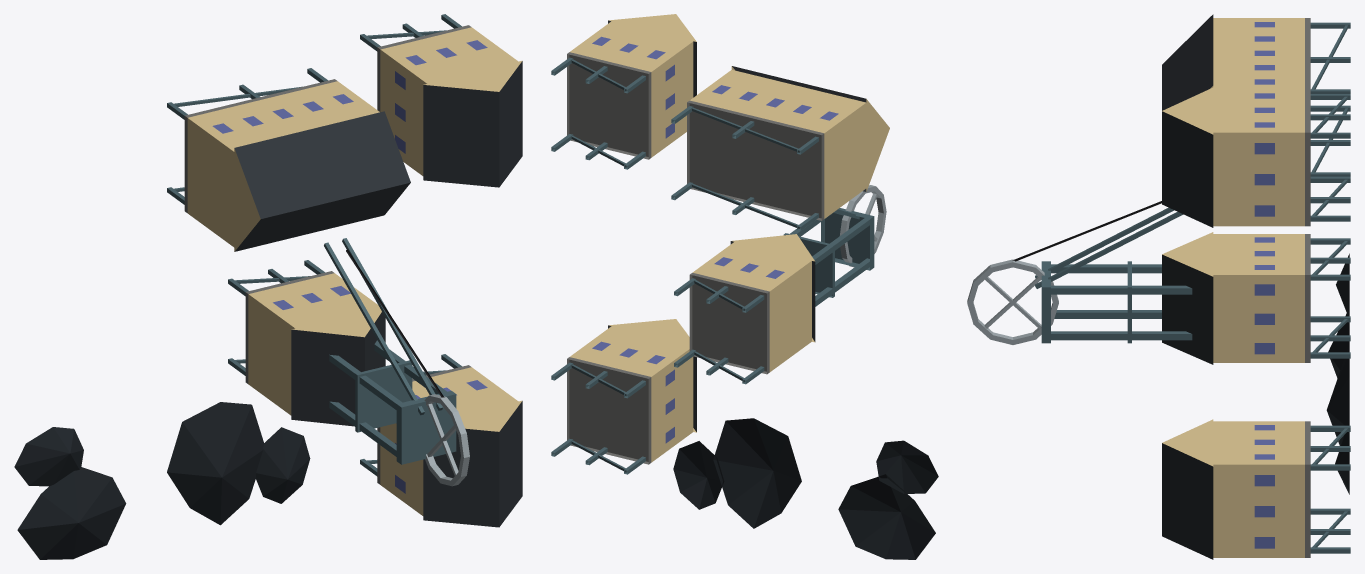
Rendered from construction_2.glb.
3 views of the same model, side by side, from view 1: azimuth 30°, elevation 25°; view 2: azimuth 150°, elevation 25°; view 3: azimuth 270°, elevation 25° (orthographic). The views are drawn at different scales.
Visible parts, largest first — view 1: t12_g2.002, t11_g0.002, t22_g3.002, t20_g3.002, t10_g6.002, t00_g5.002; view 2: t12_g2.002, t11_g0.002, t20_g3.002, t22_g3.002, t10_g6.002, t00_g5.002; view 3: t11_g0.002, t22_g3.002, t20_g3.002, t12_g2.002, t10_g6.002, t00_g5.002.
Boxes of the visible parts, x1,y1,x2,y2 form: t12_g2.002: (167, 68, 410, 251); t11_g0.002: (228, 238, 469, 486); t22_g3.002: (360, 14, 522, 187); t20_g3.002: (360, 354, 522, 527); t10_g6.002: (167, 402, 310, 525); t00_g5.002: (14, 427, 126, 559); t12_g2.002: (671, 66, 889, 230); t11_g0.002: (674, 185, 886, 384); t20_g3.002: (551, 319, 696, 474); t22_g3.002: (551, 14, 696, 169); t10_g6.002: (673, 418, 801, 528); t00_g5.002: (838, 440, 938, 559); t11_g0.002: (967, 201, 1350, 364); t22_g3.002: (1162, 87, 1350, 227); t20_g3.002: (1162, 419, 1350, 559); t12_g2.002: (1162, 14, 1350, 176); t10_g6.002: (1326, 344, 1349, 494); t00_g5.002: (1328, 253, 1349, 378).
Size of the model in its own units: 43.22 by 43.29 by 33.5.
